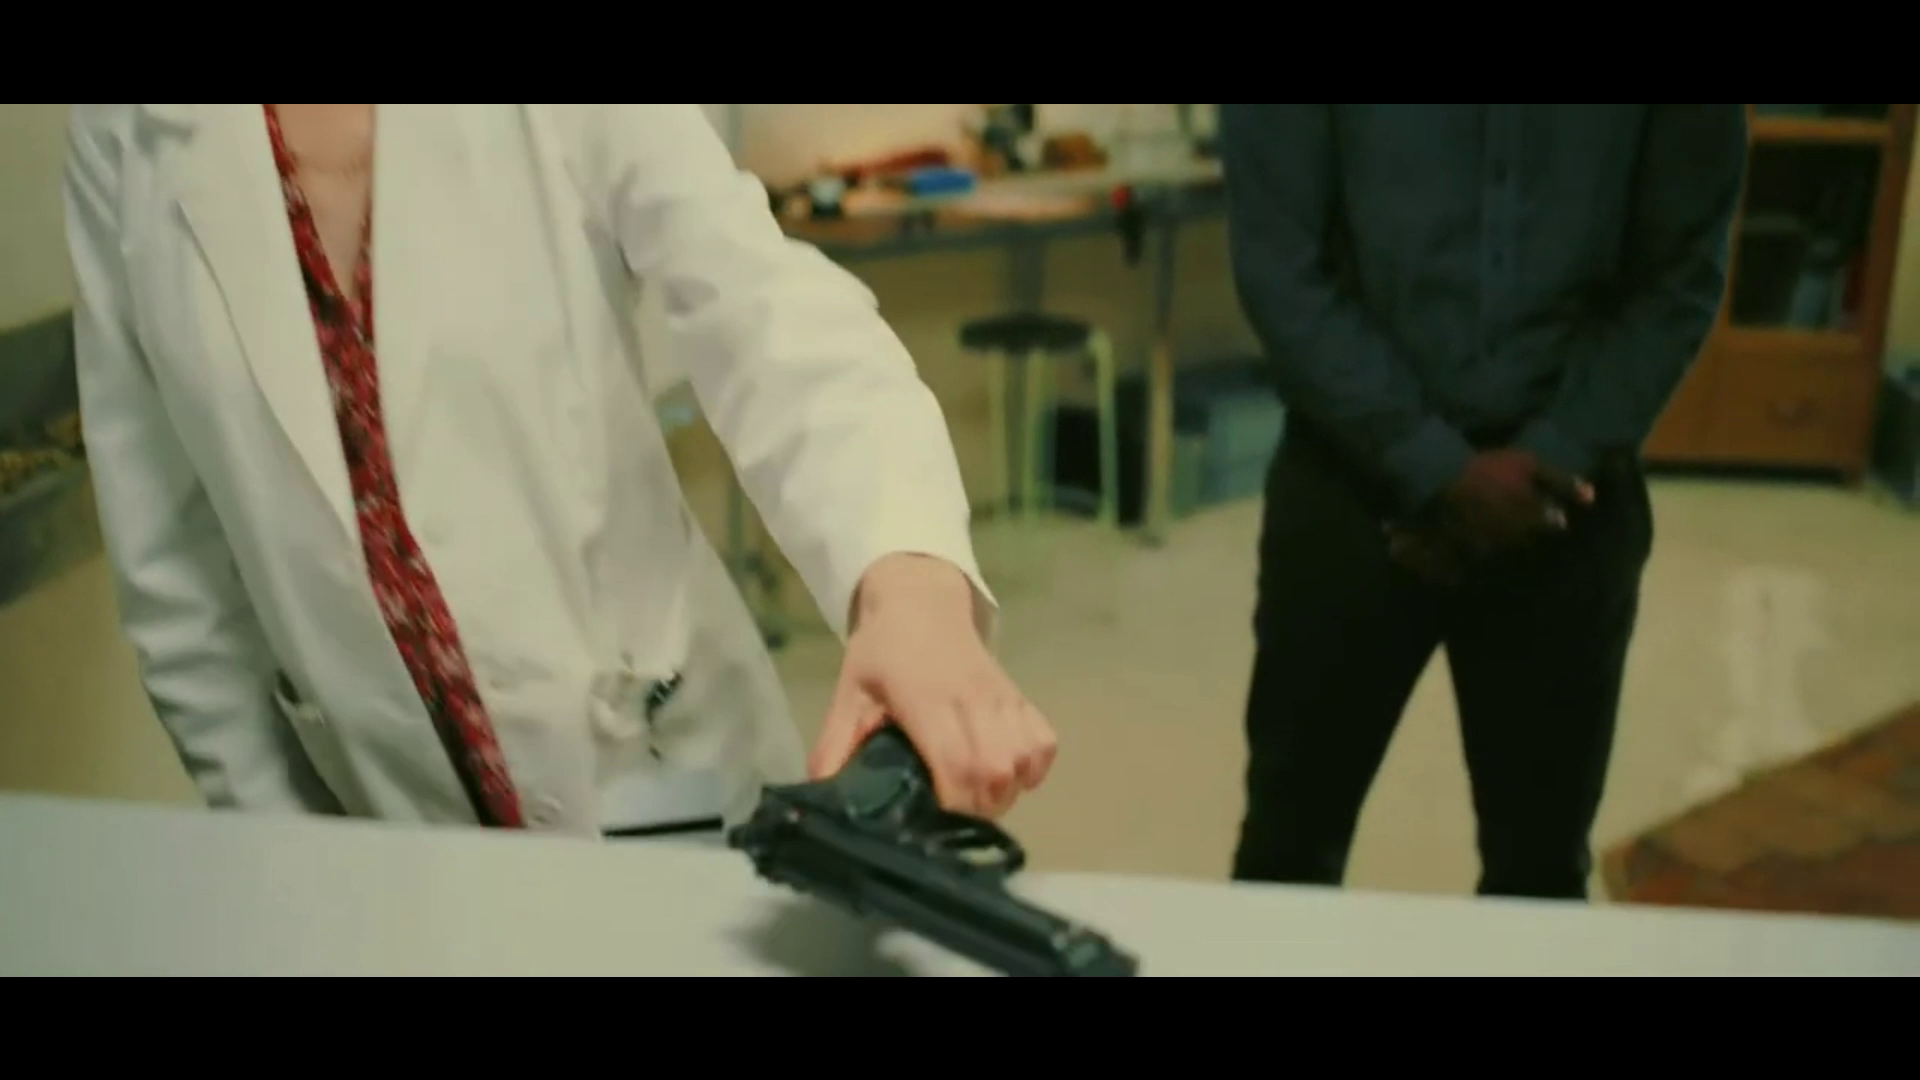SIG P226: (720, 723, 1153, 978)
